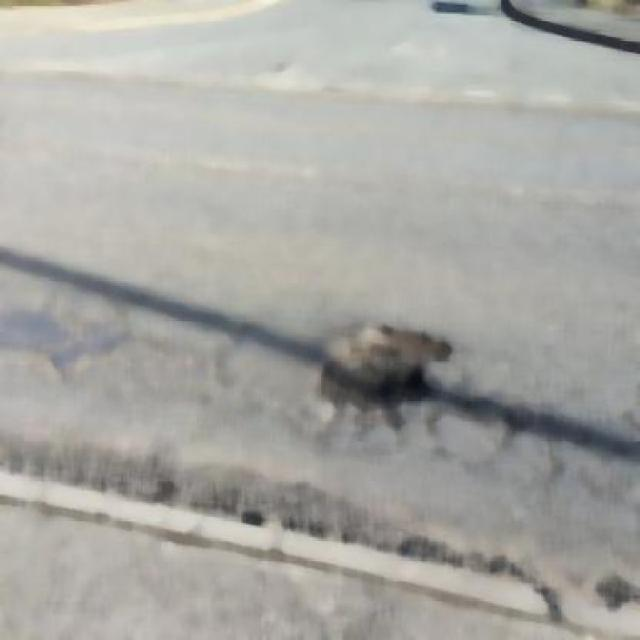Pothole: (316, 319, 462, 419)
